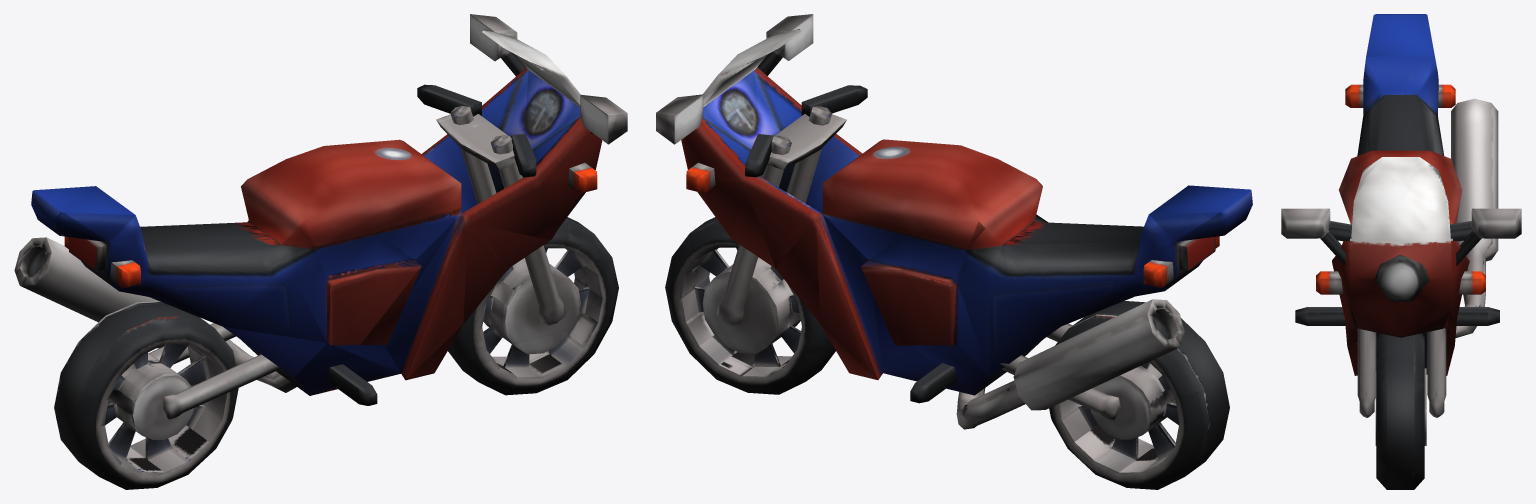
File: motor.obj
3 renders of one model, left to right at view 1: azimuth 30°, elevation 25°; view 2: azimuth 150°, elevation 25°; view 3: azimuth 270°, elevation 25°, orthographic. The views are drawn at different scales.
Visible parts, largest first — view 1: motor; view 2: motor; view 3: motor.
Part boxes in pixels (x1,y1,x2,y2): motor: (14, 14, 627, 489); motor: (656, 14, 1252, 489); motor: (1281, 14, 1521, 489).
Size of the model in its own units: 0.7026 by 0.4202 by 0.2962.
1 material, 1 textured.
